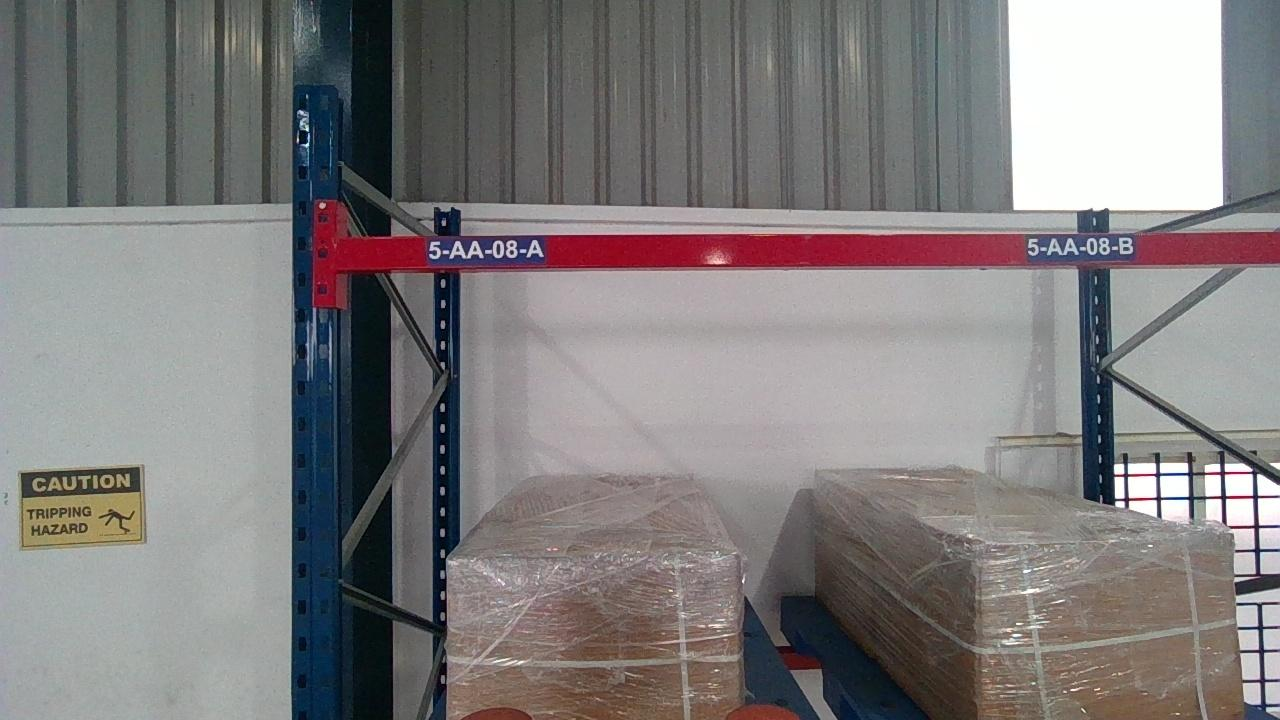h_rack: (330, 236, 1277, 269)
